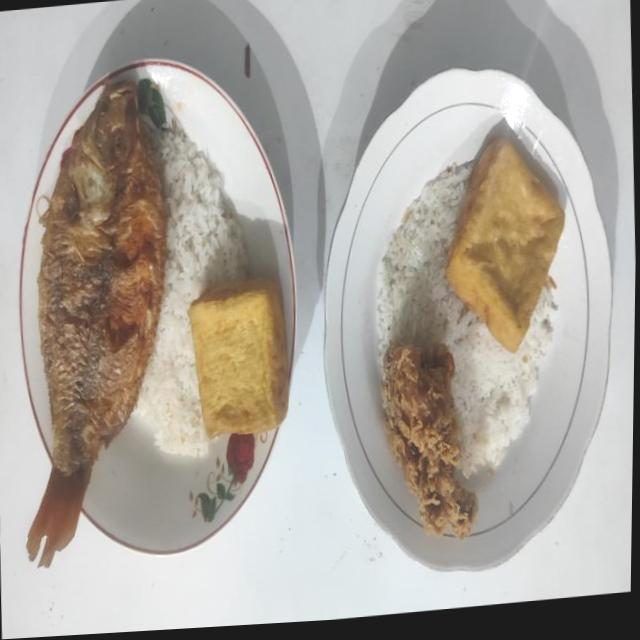ikan_mujair: (27, 79, 166, 566)
nasi_putih: (376, 162, 556, 476), (136, 122, 246, 456)
tahu_goreng: (446, 139, 564, 352), (188, 277, 289, 438)
